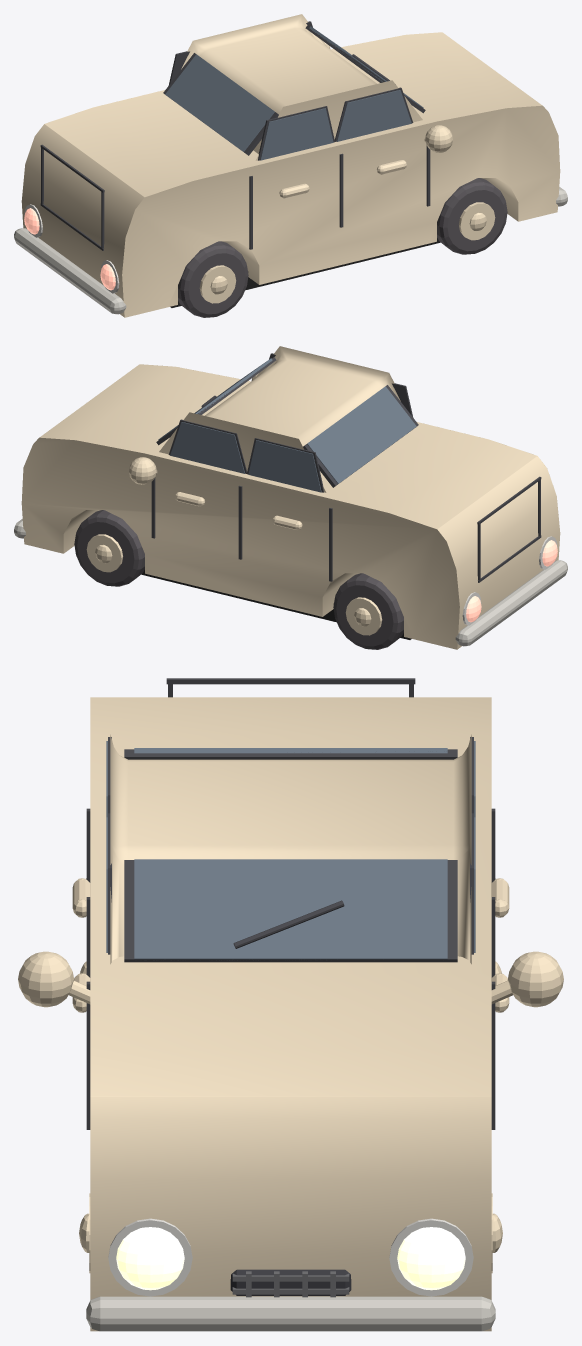
The model's file is 05-sedan-car.glb.
The picture shows the model from 3 angles, top to bottom: view 1: azimuth 30°, elevation 25°; view 2: azimuth 150°, elevation 25°; view 3: azimuth 270°, elevation 25°; orthographic projection. The views are drawn at different scales.
Parts seen in each view (by area): view 1: Body, Cabin, RearWindowGlass, Tire_x-0.705_L, Tire_x+0.785_L, SideWinRearGlass_L, SideWinFrontGlass_L, BumperR, Hubcap_x-0.705_L, Hubcap_x+0.785_L, Mirror_L, UnderSlab (+2 smaller); view 2: Body, Cabin, RearWindowGlass, Tire_x-0.705_R, Tire_x+0.785_R, SideWinRearGlass_R, SideWinFrontGlass_R, BumperR, Hubcap_x-0.705_R, Hubcap_x+0.785_R, Mirror_R, UnderSlab (+3 smaller); view 3: Body, Cabin, WindshieldGlass, BumperF, WindshieldTrim, HeadLens_R, HeadLens_L, Mirror_R, Mirror_L, RearWindowTrim, RearWindowGlass, HeadRim_R (+4 smaller).
Boxes of the visible parts, x1=… form: Body: x1=21, y1=32, x2=560, y2=317; Cabin: x1=181, y1=14, x2=422, y2=160; RearWindowGlass: x1=165, y1=54, x2=274, y2=151; Tire_x-0.705_L: x1=178, y1=241, x2=248, y2=317; Tire_x+0.785_L: x1=437, y1=178, x2=507, y2=254; SideWinRearGlass_L: x1=260, y1=108, x2=333, y2=160; SideWinFrontGlass_L: x1=337, y1=90, x2=411, y2=141; BumperR: x1=14, y1=228, x2=126, y2=314; Hubcap_x-0.705_L: x1=199, y1=265, x2=236, y2=303; Hubcap_x+0.785_L: x1=459, y1=202, x2=495, y2=240; Mirror_L: x1=425, y1=125, x2=452, y2=152; UnderSlab: x1=170, y1=238, x2=440, y2=307; Body: x1=21, y1=364, x2=560, y2=649; Cabin: x1=159, y1=346, x2=400, y2=492; RearWindowGlass: x1=307, y1=386, x2=416, y2=483; Tire_x-0.705_R: x1=333, y1=573, x2=403, y2=649; Tire_x+0.785_R: x1=74, y1=510, x2=144, y2=586; SideWinRearGlass_R: x1=248, y1=440, x2=321, y2=492; SideWinFrontGlass_R: x1=170, y1=422, x2=244, y2=473; BumperR: x1=455, y1=560, x2=567, y2=646; Hubcap_x-0.705_R: x1=345, y1=597, x2=382, y2=635; Hubcap_x+0.785_R: x1=86, y1=534, x2=122, y2=572; Mirror_R: x1=129, y1=457, x2=156, y2=484; UnderSlab: x1=141, y1=570, x2=411, y2=639; Body: x1=90, y1=697, x2=491, y2=1331; Cabin: x1=110, y1=734, x2=471, y2=964; WindshieldGlass: x1=134, y1=859, x2=447, y2=960; BumperF: x1=86, y1=1296, x2=495, y2=1331; WindshieldTrim: x1=124, y1=860, x2=457, y2=962; HeadLens_R: x1=397, y1=1227, x2=465, y2=1290; HeadLens_L: x1=116, y1=1227, x2=184, y2=1290; Mirror_R: x1=508, y1=951, x2=563, y2=1007; Mirror_L: x1=18, y1=951, x2=73, y2=1007; RearWindowTrim: x1=124, y1=749, x2=457, y2=759; RearWindowGlass: x1=134, y1=748, x2=447, y2=753; HeadRim_R: x1=389, y1=1218, x2=473, y2=1296.
Size of the model in its own units: 2.63 by 1.06 by 1.36.
